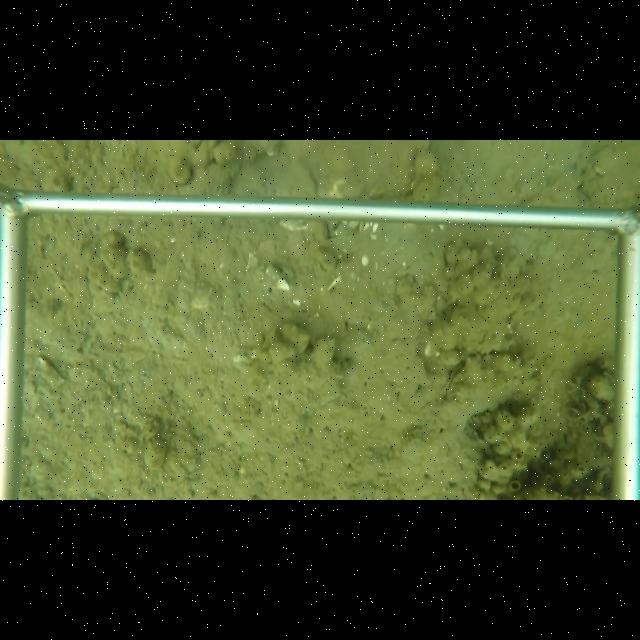Oyster-Closed: (438, 359, 470, 407)
